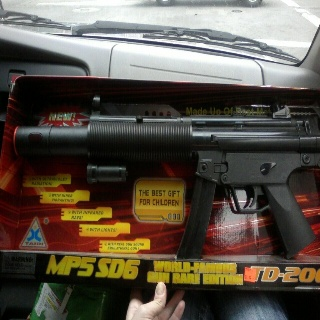rifle: (12, 104, 320, 264)
